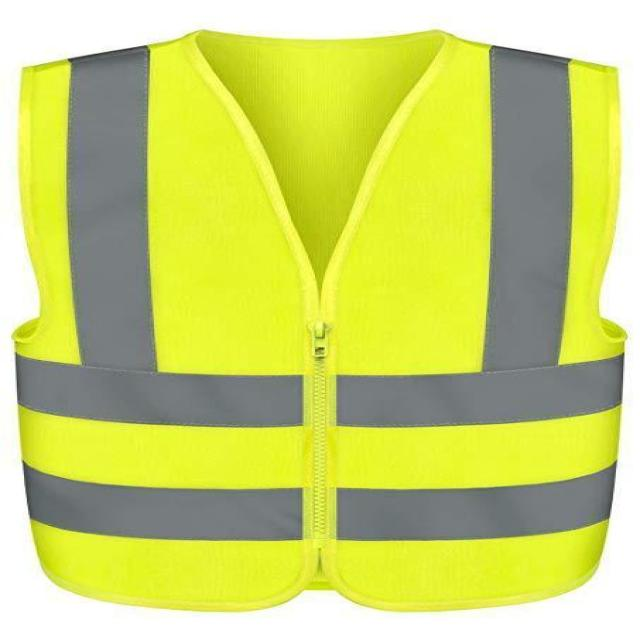Vest: (13, 33, 620, 604)
